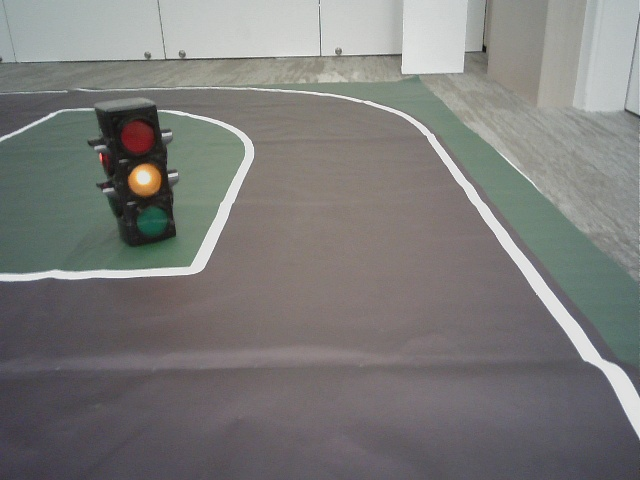yellow: (113, 116, 169, 238)
